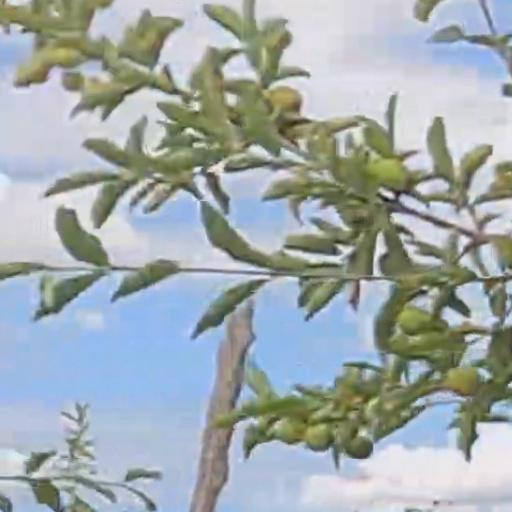acerola: (271, 88, 303, 113), (447, 368, 479, 391), (345, 436, 373, 456), (305, 426, 329, 449)
